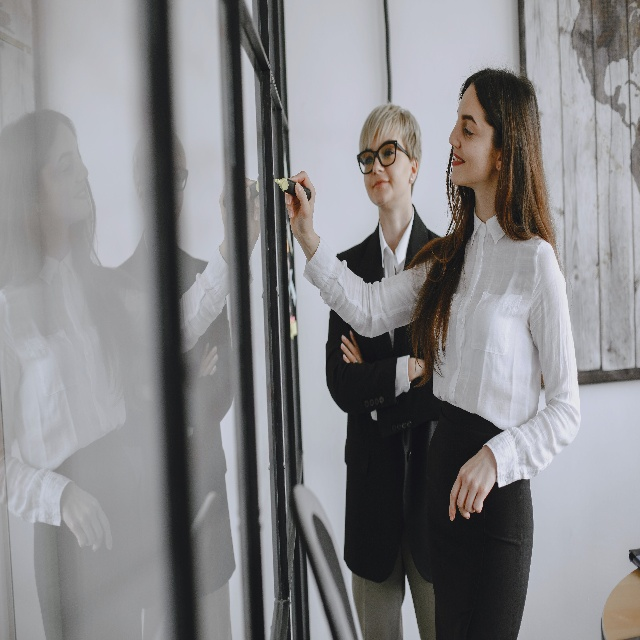Gafas: (357, 141, 398, 180)
Sin_guantes: (445, 442, 495, 521), (283, 174, 317, 234), (340, 328, 360, 361)
